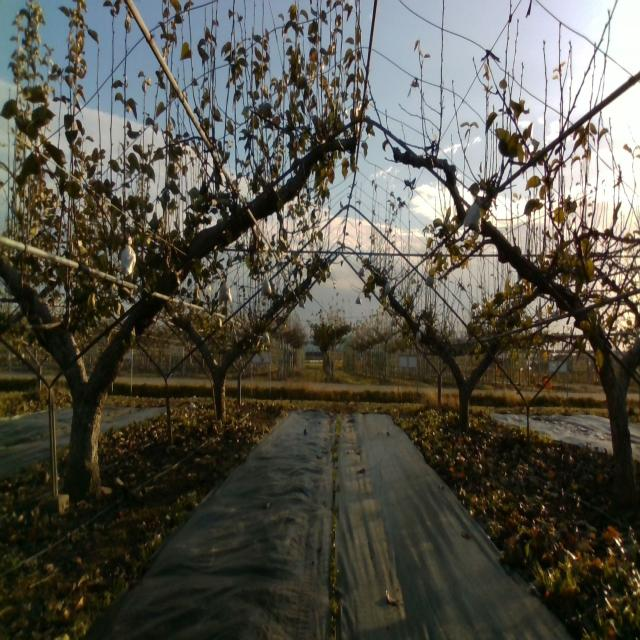pearbags: (120, 235, 137, 278), (463, 198, 483, 233), (218, 281, 234, 305), (260, 274, 274, 294)
